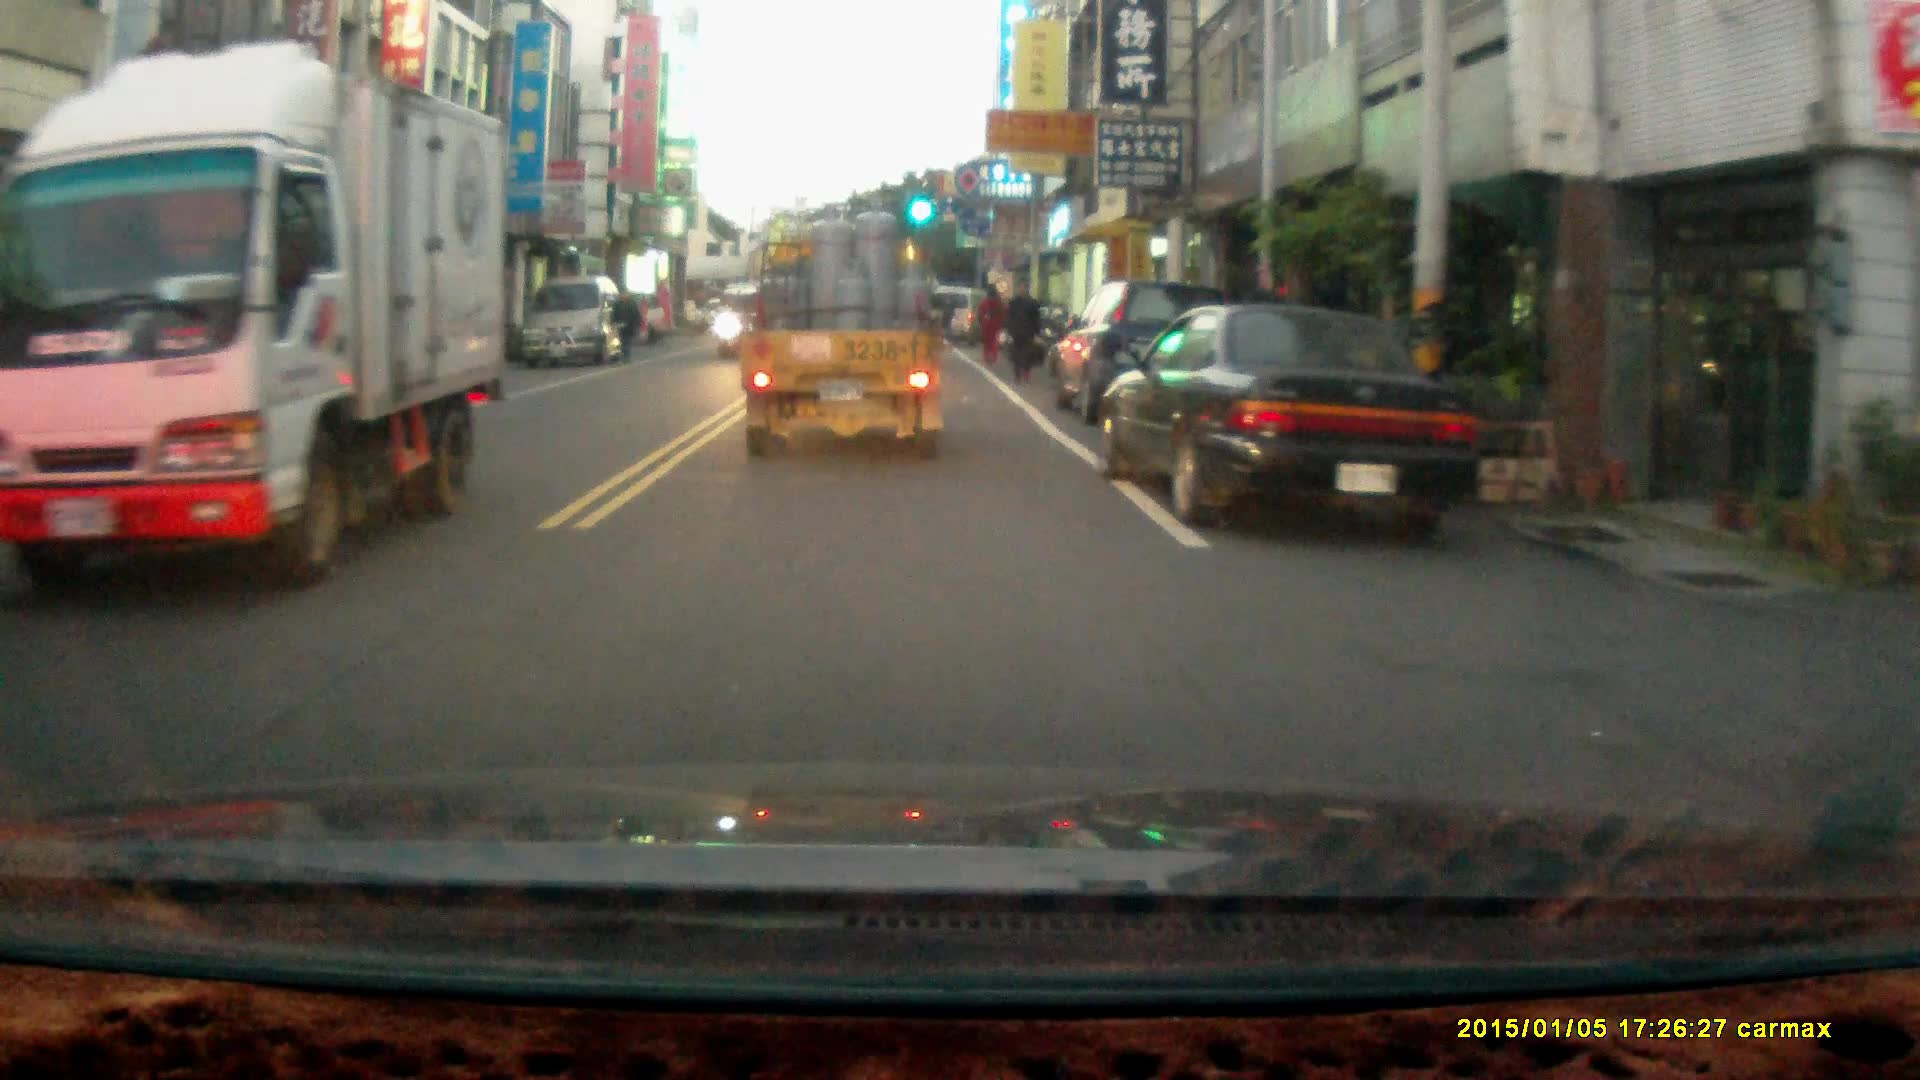pedestrian: (1002, 275, 1042, 383), (974, 282, 1009, 368), (610, 284, 641, 361)
vehicle: (1, 40, 523, 588), (1100, 306, 1486, 538), (738, 194, 950, 468), (1053, 279, 1252, 432), (520, 277, 627, 367), (708, 279, 807, 368)
